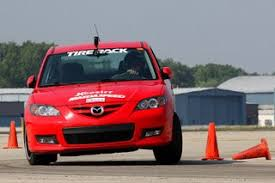car: (23, 41, 183, 166)
cone: (232, 138, 272, 161), (201, 122, 223, 161), (4, 121, 20, 149)
